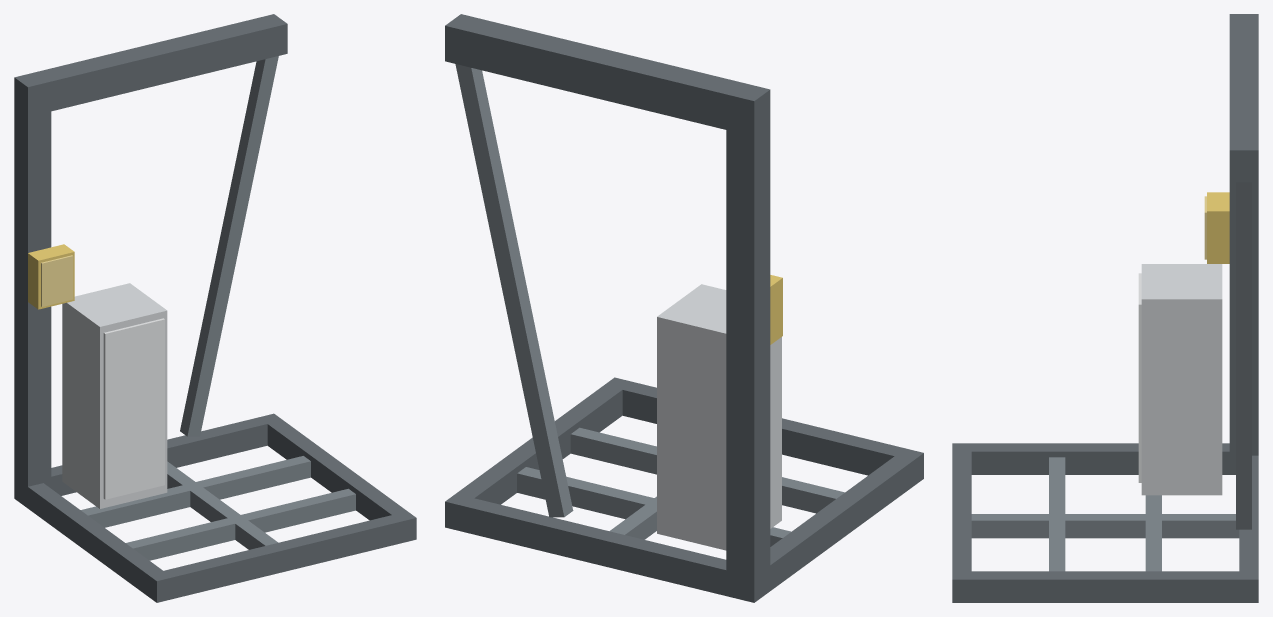
File: machine-demo.gltf
3 renders of one model, left to right at view 1: azimuth 30°, elevation 25°; view 2: azimuth 150°, elevation 25°; view 3: azimuth 270°, elevation 25°, orthographic. The views are drawn at different scales.
Size of the model in its own units: 2 by 3.1 by 1.9.
